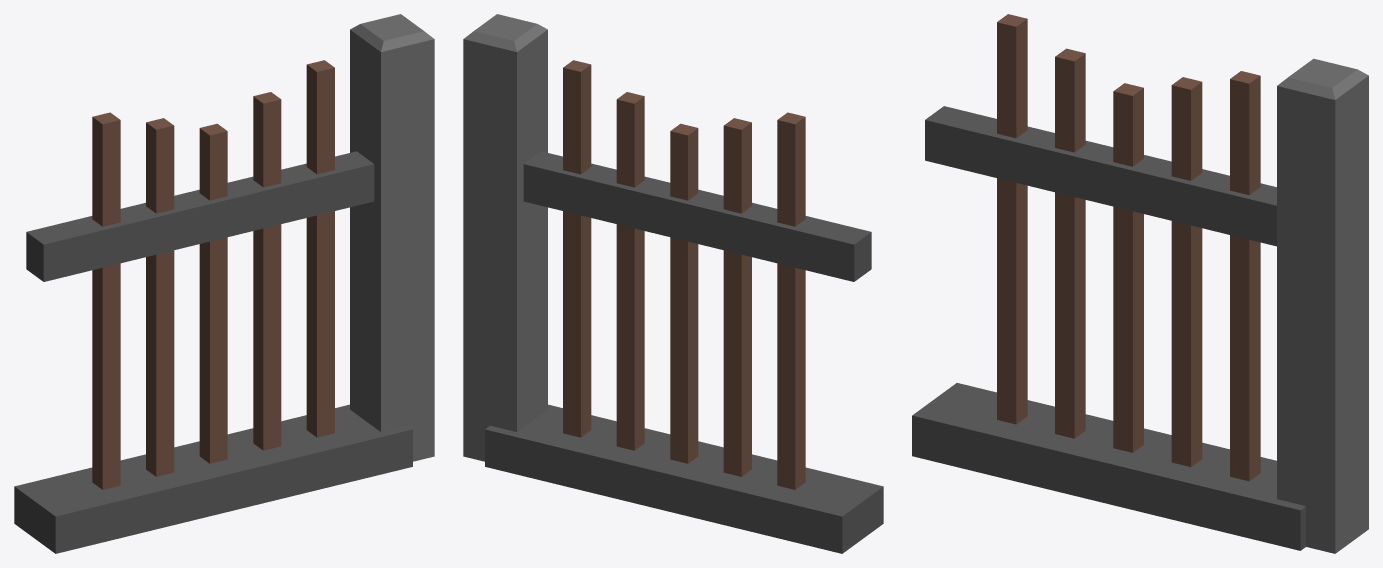
File: SM_FloorProps_Fence_04.fbx
3 renders of one model, left to right at view 1: azimuth 30°, elevation 25°; view 2: azimuth 150°, elevation 25°; view 3: azimuth 330°, elevation 25°, orthographic. The views are drawn at different scales.
Parts seen in each view (by area): view 1: SM_FloorProps_Fence_04; view 2: SM_FloorProps_Fence_04; view 3: SM_FloorProps_Fence_04.
Boxes of the visible parts, x1,y1,x2,y2 form: SM_FloorProps_Fence_04: (14, 14, 434, 553); SM_FloorProps_Fence_04: (463, 14, 883, 553); SM_FloorProps_Fence_04: (912, 14, 1368, 553).
Size of the model in its own units: 2.15 by 2.27 by 0.4.
